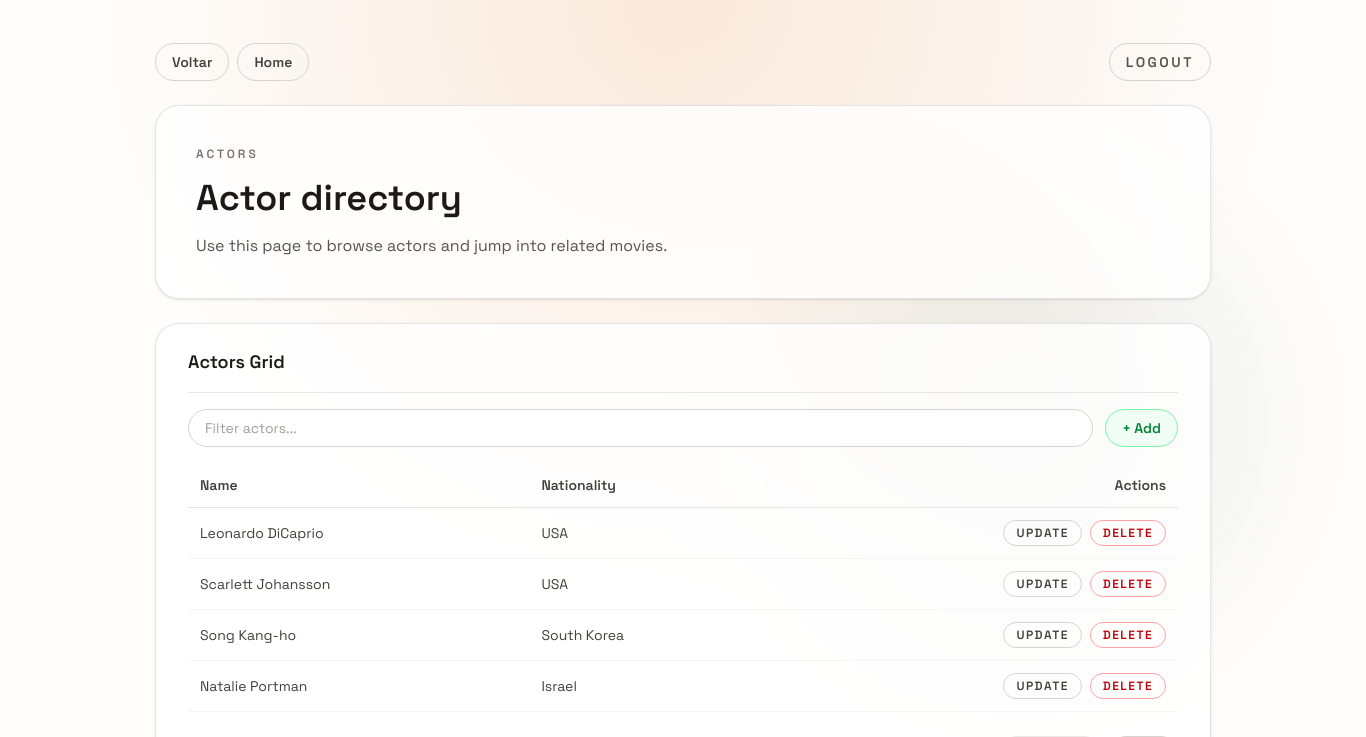
it: ActorsPage › clears related grids when next page is clicked on actors
This screenshot has width=1366, height=737.
Click the text "Leonardo DiCaprio".
click(262, 533)  # box x1=188 y1=508 x2=529 y2=558
(page scrolled)
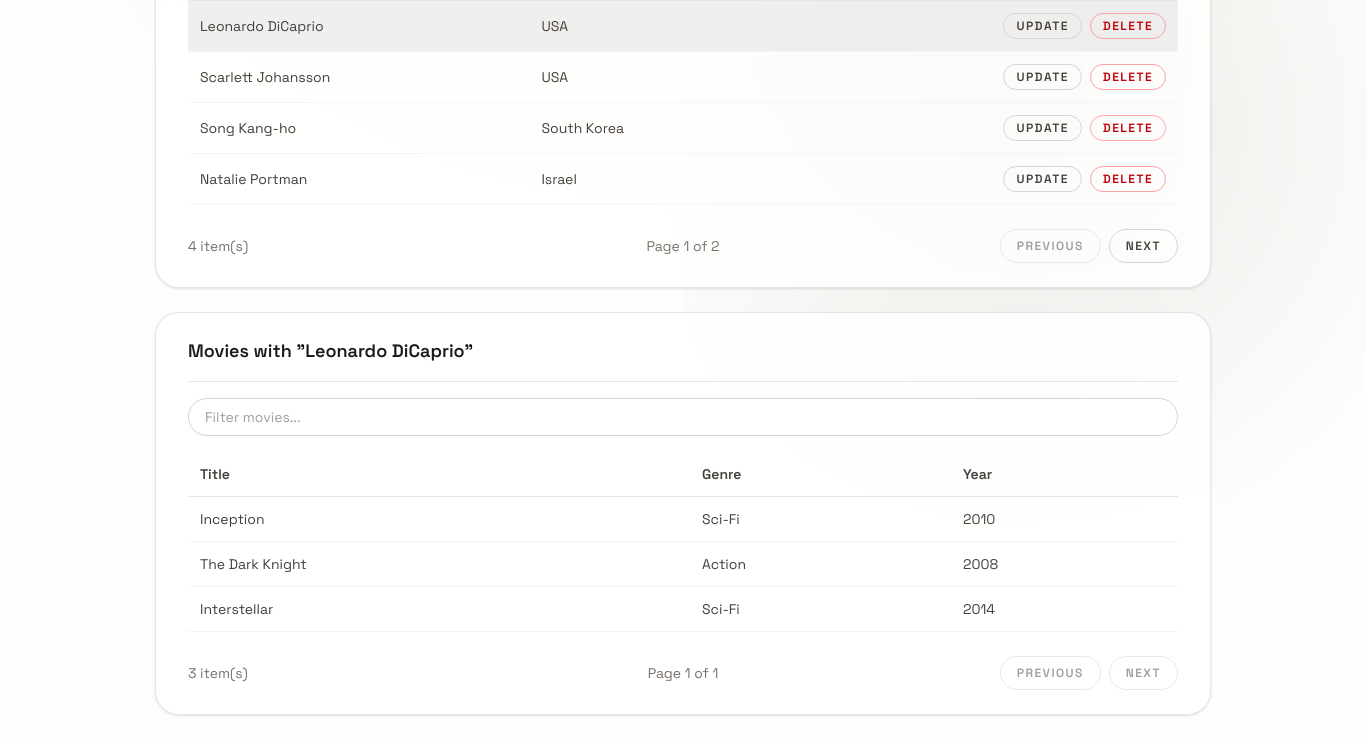
Result: the text "Inception" is shown
Click the text "Inception".
click(232, 519)  # box x1=188 y1=496 x2=690 y2=542
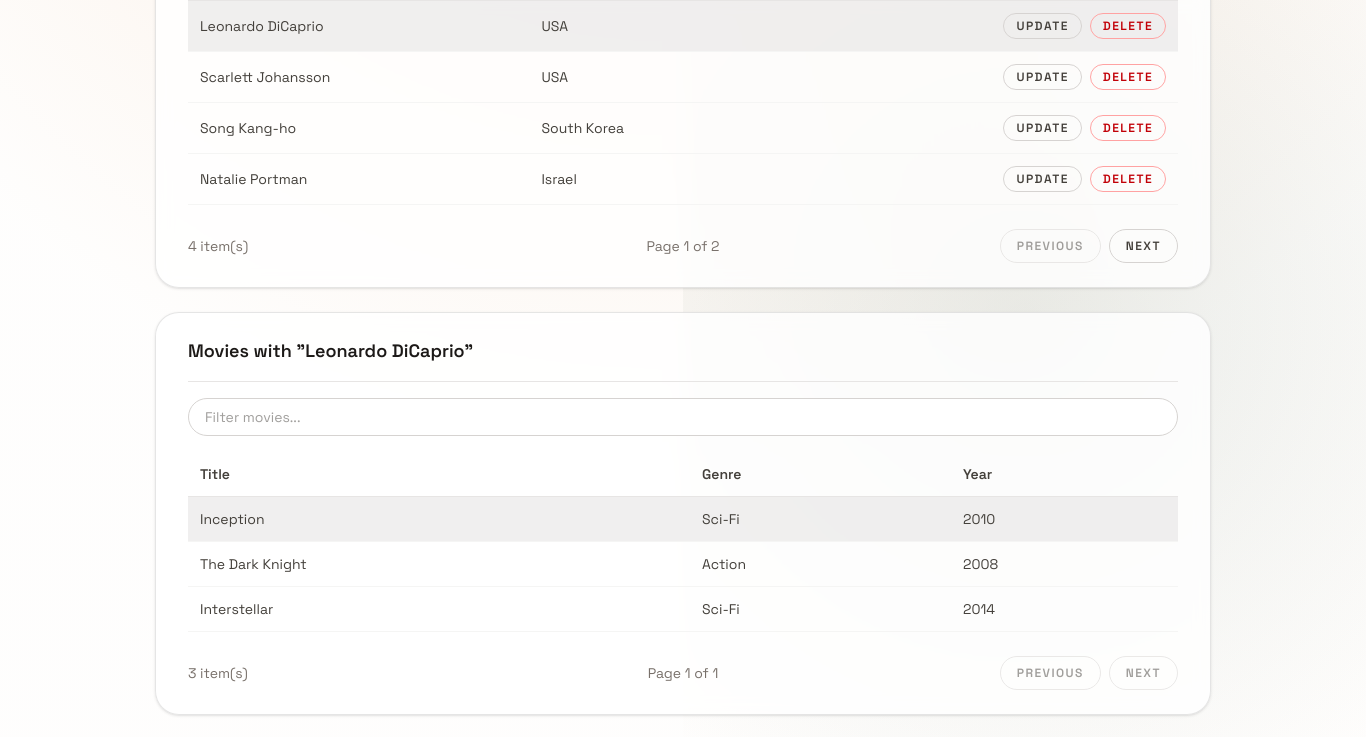
Click the button "Next" below "Actions".
click(1143, 246)  # box x1=1109 y1=229 x2=1178 y2=263
(page scrolled)
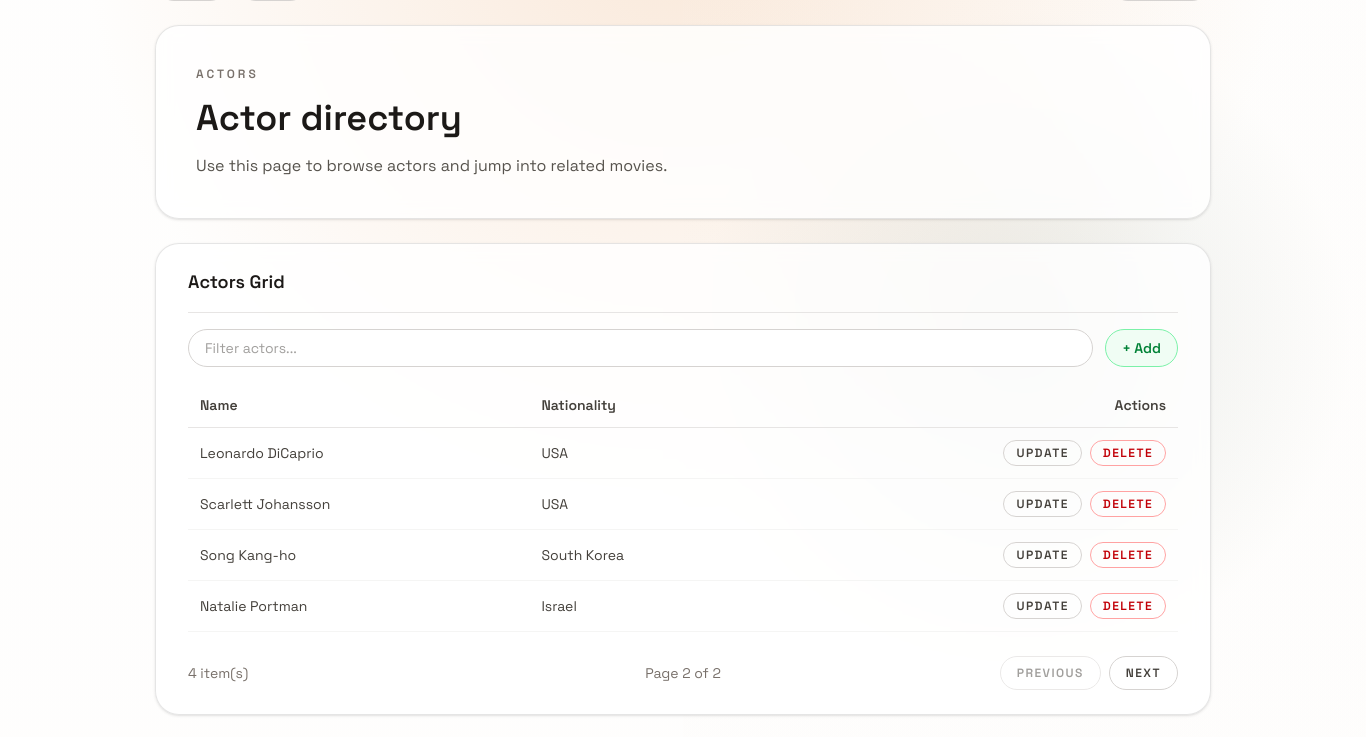
Result: the heading "Movies with \"Leonardo DiCaprio\"" is gone
